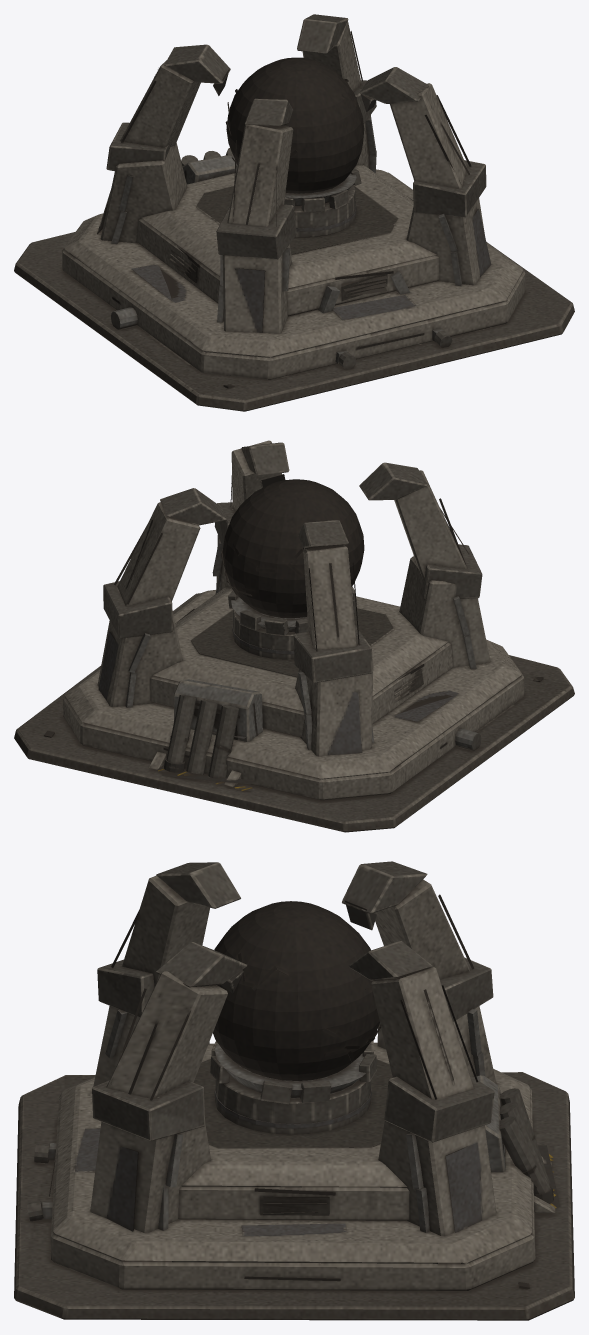
File: ord_advfusion_wreck.fbx
3 renders of one model, top to bottom at view 1: azimuth 30°, elevation 25°; view 2: azimuth 150°, elevation 25°; view 3: azimuth 270°, elevation 25°, orthographic. The views are drawn at different scales.
Visible parts, largest first — view 1: base_bar, core_bar; view 2: base_bar, core_bar; view 3: base_bar, core_bar.
Boxes of the visible parts, <box> form: base_bar: <box>14,14,574,411</box>; core_bar: <box>225,57,364,193</box>; base_bar: <box>14,440,574,832</box>; core_bar: <box>220,479,364,618</box>; base_bar: <box>14,861,574,1320</box>; core_bar: <box>213,901,380,1080</box>.
Size of the model in its own units: 4791 by 3027 by 4790.
2 materials, 2 textured.
